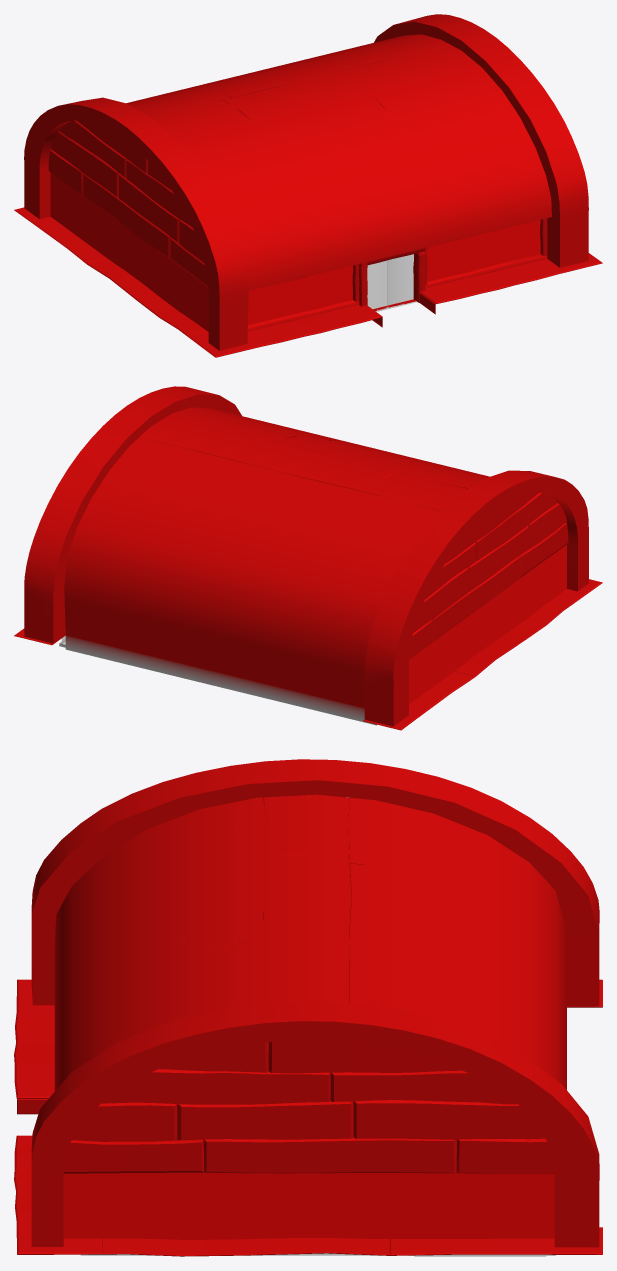
File: BFBB_KrustyKrab.fbx
3 views of the same model, one above another, from view 1: azimuth 30°, elevation 25°; view 2: azimuth 150°, elevation 25°; view 3: azimuth 270°, elevation 25° (orthographic). The views are drawn at different scales.
Visible parts, largest first — view 1: hb07_mesh; view 2: hb07_mesh; view 3: hb07_mesh.
Part boxes in pixels (bbox=[...]): hb07_mesh: bbox=[14, 14, 602, 357]; hb07_mesh: bbox=[14, 386, 602, 730]; hb07_mesh: bbox=[14, 759, 602, 1256].
Size of the model in its own units: 4783 by 2016 by 4322.
